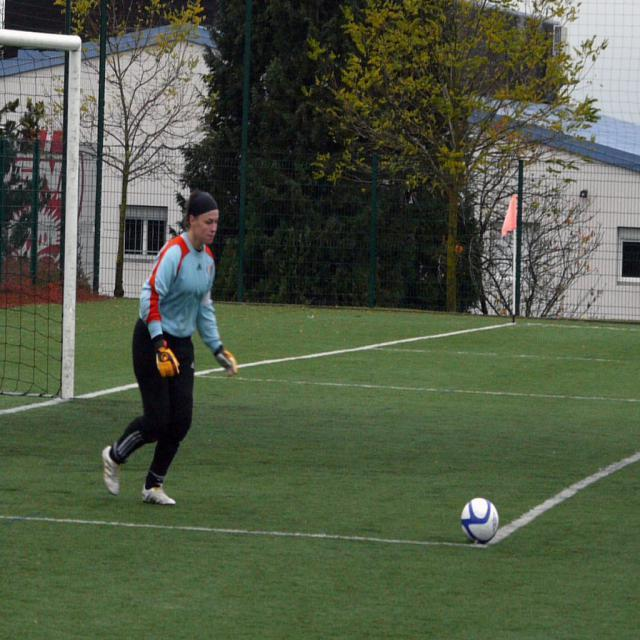football: (446, 485, 517, 553)
